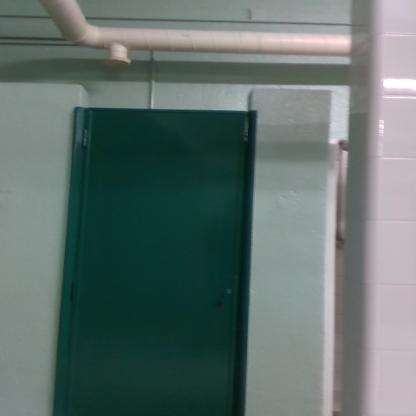closed: (48, 77, 276, 406)
